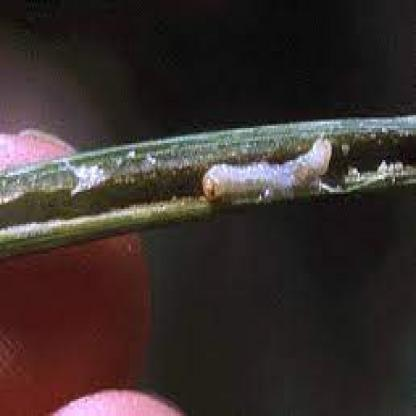sawfly: (202, 131, 339, 214)
